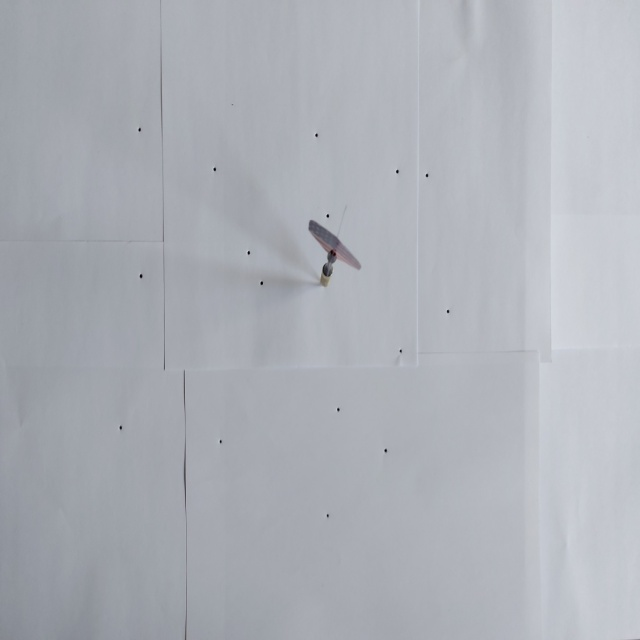Dart: (301, 200, 366, 300)
